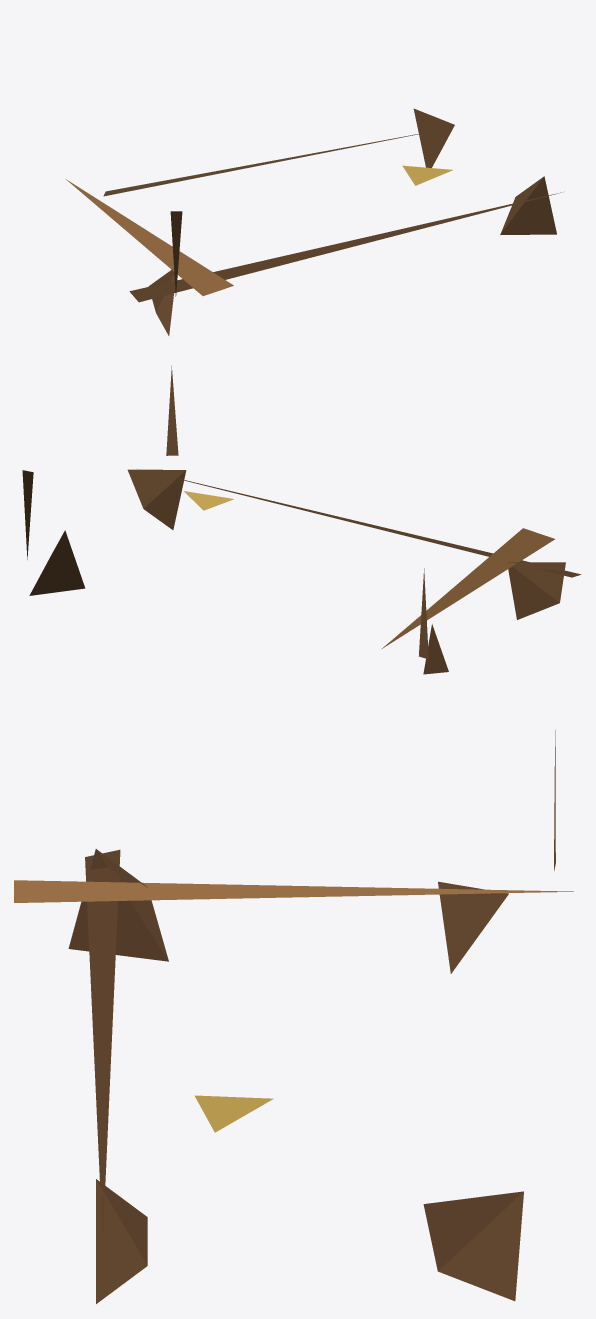
The model's file is ferry_raft_lod2.glb.
3 views of the same model, one above another, from view 1: azimuth 30°, elevation 25°; view 2: azimuth 150°, elevation 25°; view 3: azimuth 270°, elevation 25° (orthographic). The views are drawn at different scales.
Visible parts, largest first — view 1: ferry_raft_lod2; view 2: ferry_raft_lod2; view 3: ferry_raft_lod2.
Part boxes in pixels (x1,y1,x2,y2): ferry_raft_lod2: (66,108,564,335); ferry_raft_lod2: (22,365,581,674); ferry_raft_lod2: (14,730,573,1303).
Size of the model in its own units: 5.2 by 1.5 by 3.2.
